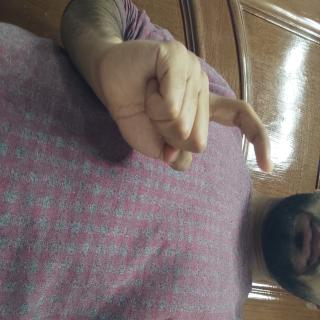RAA: (19, 52, 144, 312)
